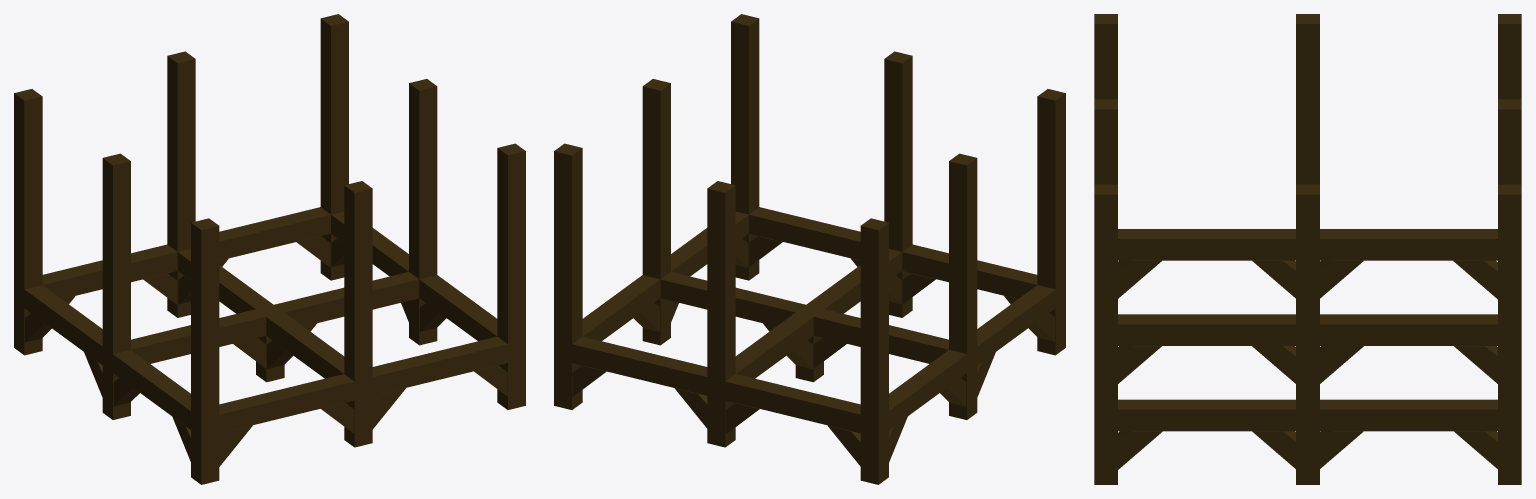
Rendered from temelj 2x2.FBX.
3 views of the same model, side by side, from view 1: azimuth 30°, elevation 25°; view 2: azimuth 150°, elevation 25°; view 3: azimuth 270°, elevation 25° (orthographic). The views are drawn at different scales.
Parts seen in each view (by area): view 1: temeljna_ugaona_Greda034; view 2: temeljna_ugaona_Greda034; view 3: temeljna_ugaona_Greda034.
Part boxes in pixels (x1=…): temeljna_ugaona_Greda034: x1=14, y1=14, x2=525, y2=484; temeljna_ugaona_Greda034: x1=554, y1=14, x2=1065, y2=484; temeljna_ugaona_Greda034: x1=1094, y1=14, x2=1521, y2=484.
Bounding box in the file's own units: 360 × 270 × 360.
